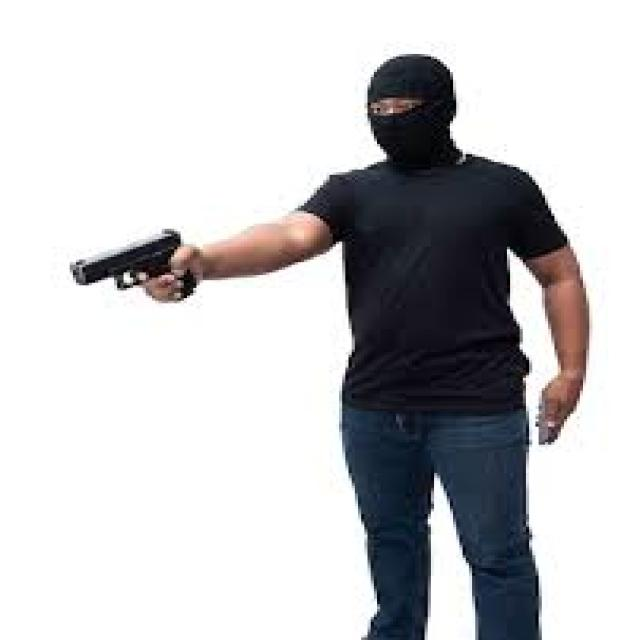gun: (77, 219, 218, 301)
